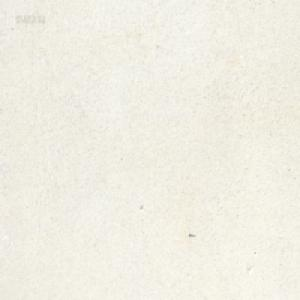Nail: (188, 232, 195, 237)
